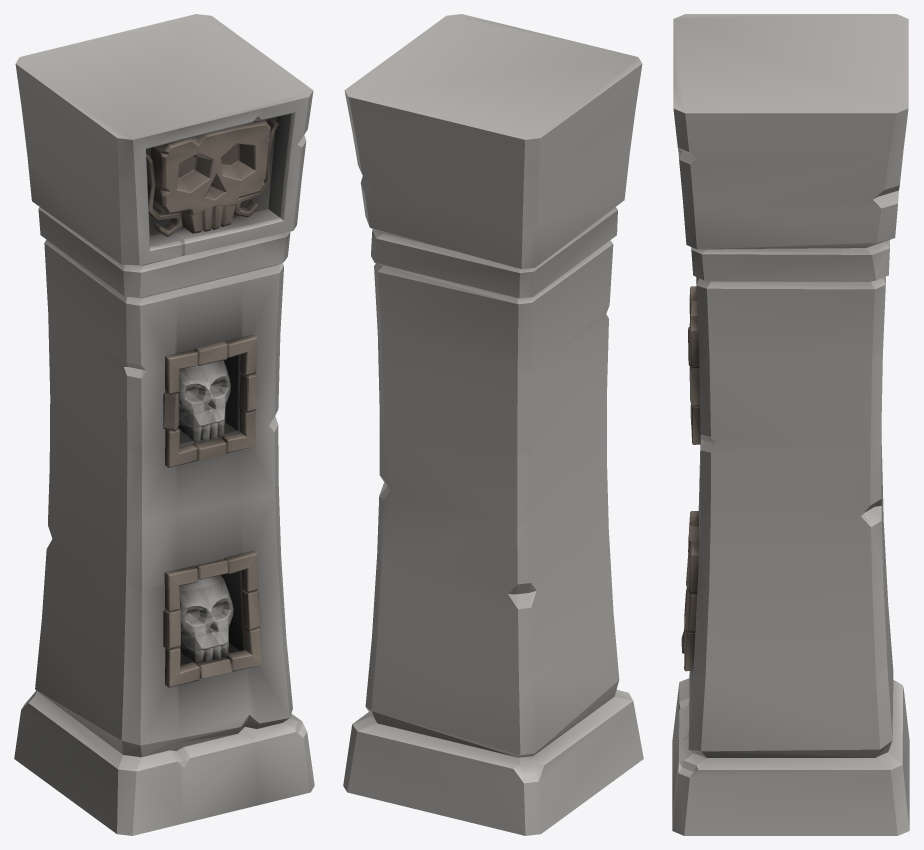
Rendered from obj_columnSkull_B.FBX.
The picture shows the model from 3 angles, left to right: view 1: azimuth 30°, elevation 25°; view 2: azimuth 150°, elevation 25°; view 3: azimuth 270°, elevation 25°; orthographic projection. The views are drawn at different scales.
Visible parts, largest first — view 1: obj_columnSkull_B; view 2: obj_columnSkull_B; view 3: obj_columnSkull_B.
Boxes of the visible parts, left/top/right/bottom form: obj_columnSkull_B: left=14, top=14, right=314, bottom=835; obj_columnSkull_B: left=343, top=14, right=643, bottom=835; obj_columnSkull_B: left=672, top=14, right=909, bottom=835.
Size of the model in its own units: 1.79 by 6 by 1.79.
